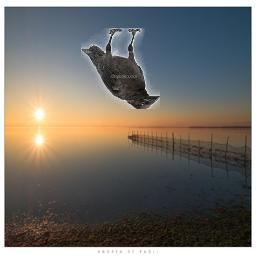Crow: (82, 29, 161, 110)
